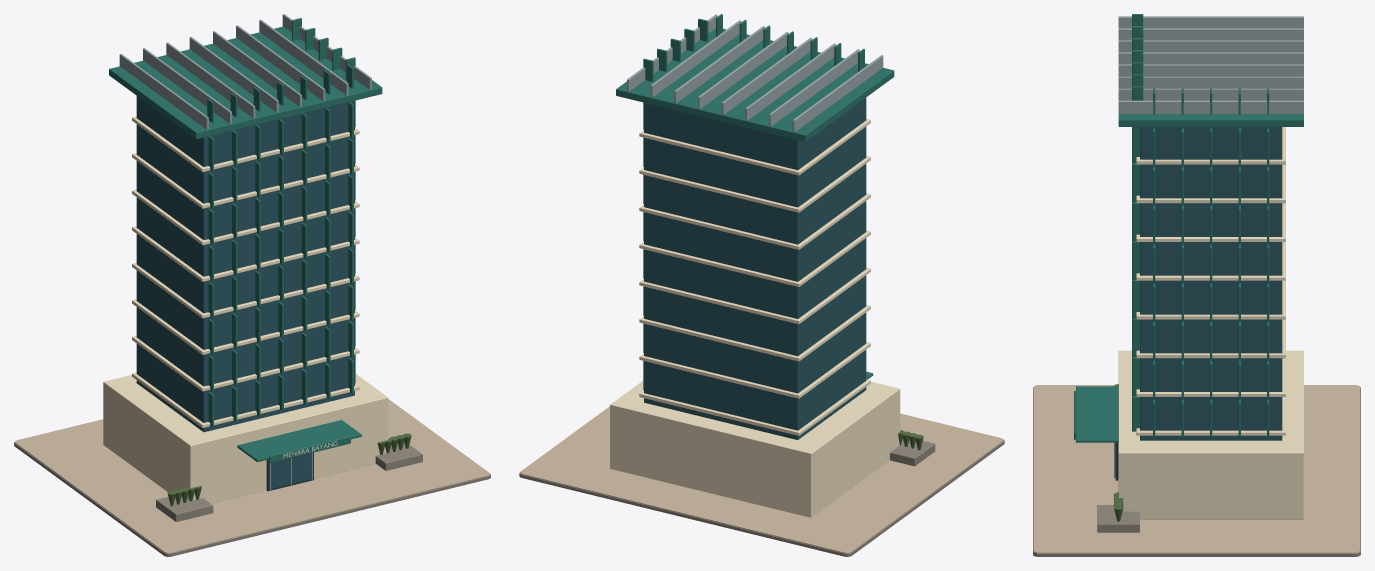
The picture shows the model from 3 angles, left to right: view 1: azimuth 30°, elevation 25°; view 2: azimuth 150°, elevation 25°; view 3: azimuth 270°, elevation 25°; orthographic projection. The views are drawn at different scales.
Parts seen in each view (by area): view 1: Office Tower, Office Forecourt, Canopy Crown, Vertical Sun Fins, Entrance, Forecourt Planters; view 2: Office Tower, Office Forecourt, Canopy Crown, Vertical Sun Fins, Forecourt Planters; view 3: Office Tower, Office Forecourt, Canopy Crown, Vertical Sun Fins, Entrance, Forecourt Planters.
Boxes of the visible parts, <box> form: Office Tower: <box>103,96,388,503</box>; Office Forecourt: <box>14,399,490,556</box>; Canopy Crown: <box>109,14,382,139</box>; Vertical Sun Fins: <box>207,18,355,427</box>; Entrance: <box>237,420,361,491</box>; Forecourt Planters: <box>156,433,422,521</box>; Office Tower: <box>610,98,900,517</box>; Office Forecourt: <box>519,406,1004,556</box>; Canopy Crown: <box>616,14,894,141</box>; Vertical Sun Fins: <box>643,14,864,389</box>; Forecourt Planters: <box>890,430,935,466</box>; Office Tower: <box>1118,127,1303,519</box>; Office Forecourt: <box>1033,385,1360,556</box>; Canopy Crown: <box>1118,16,1303,126</box>; Vertical Sun Fins: <box>1132,14,1269,437</box>; Entrance: <box>1074,386,1118,480</box>; Forecourt Planters: <box>1097,384,1139,532</box>.
Bounding box in the file's own units: 28 × 32.7 × 23.
